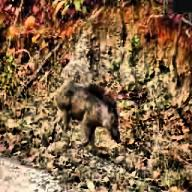boar: (52, 77, 122, 148)
